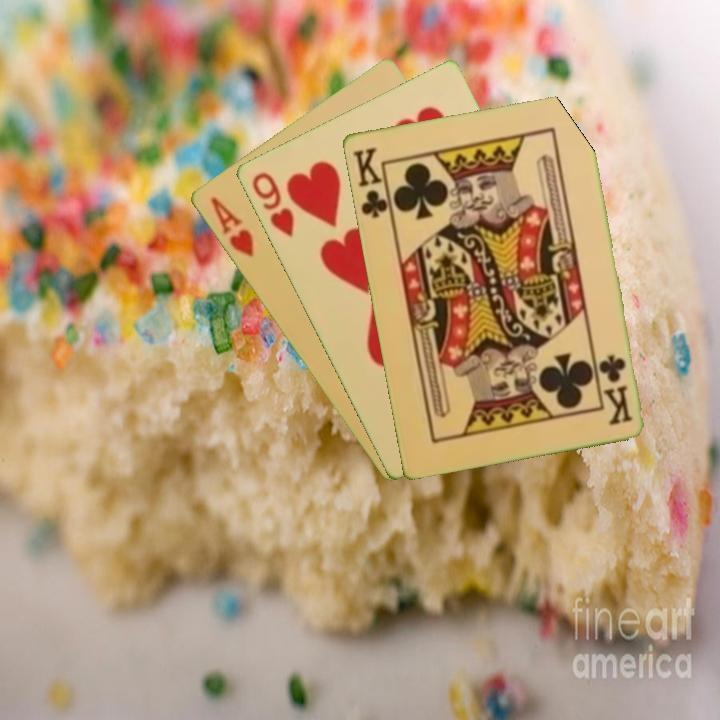9h: (248, 168, 297, 241)
Ah: (206, 193, 256, 260)
Kc: (349, 144, 394, 221), (595, 350, 635, 428)
